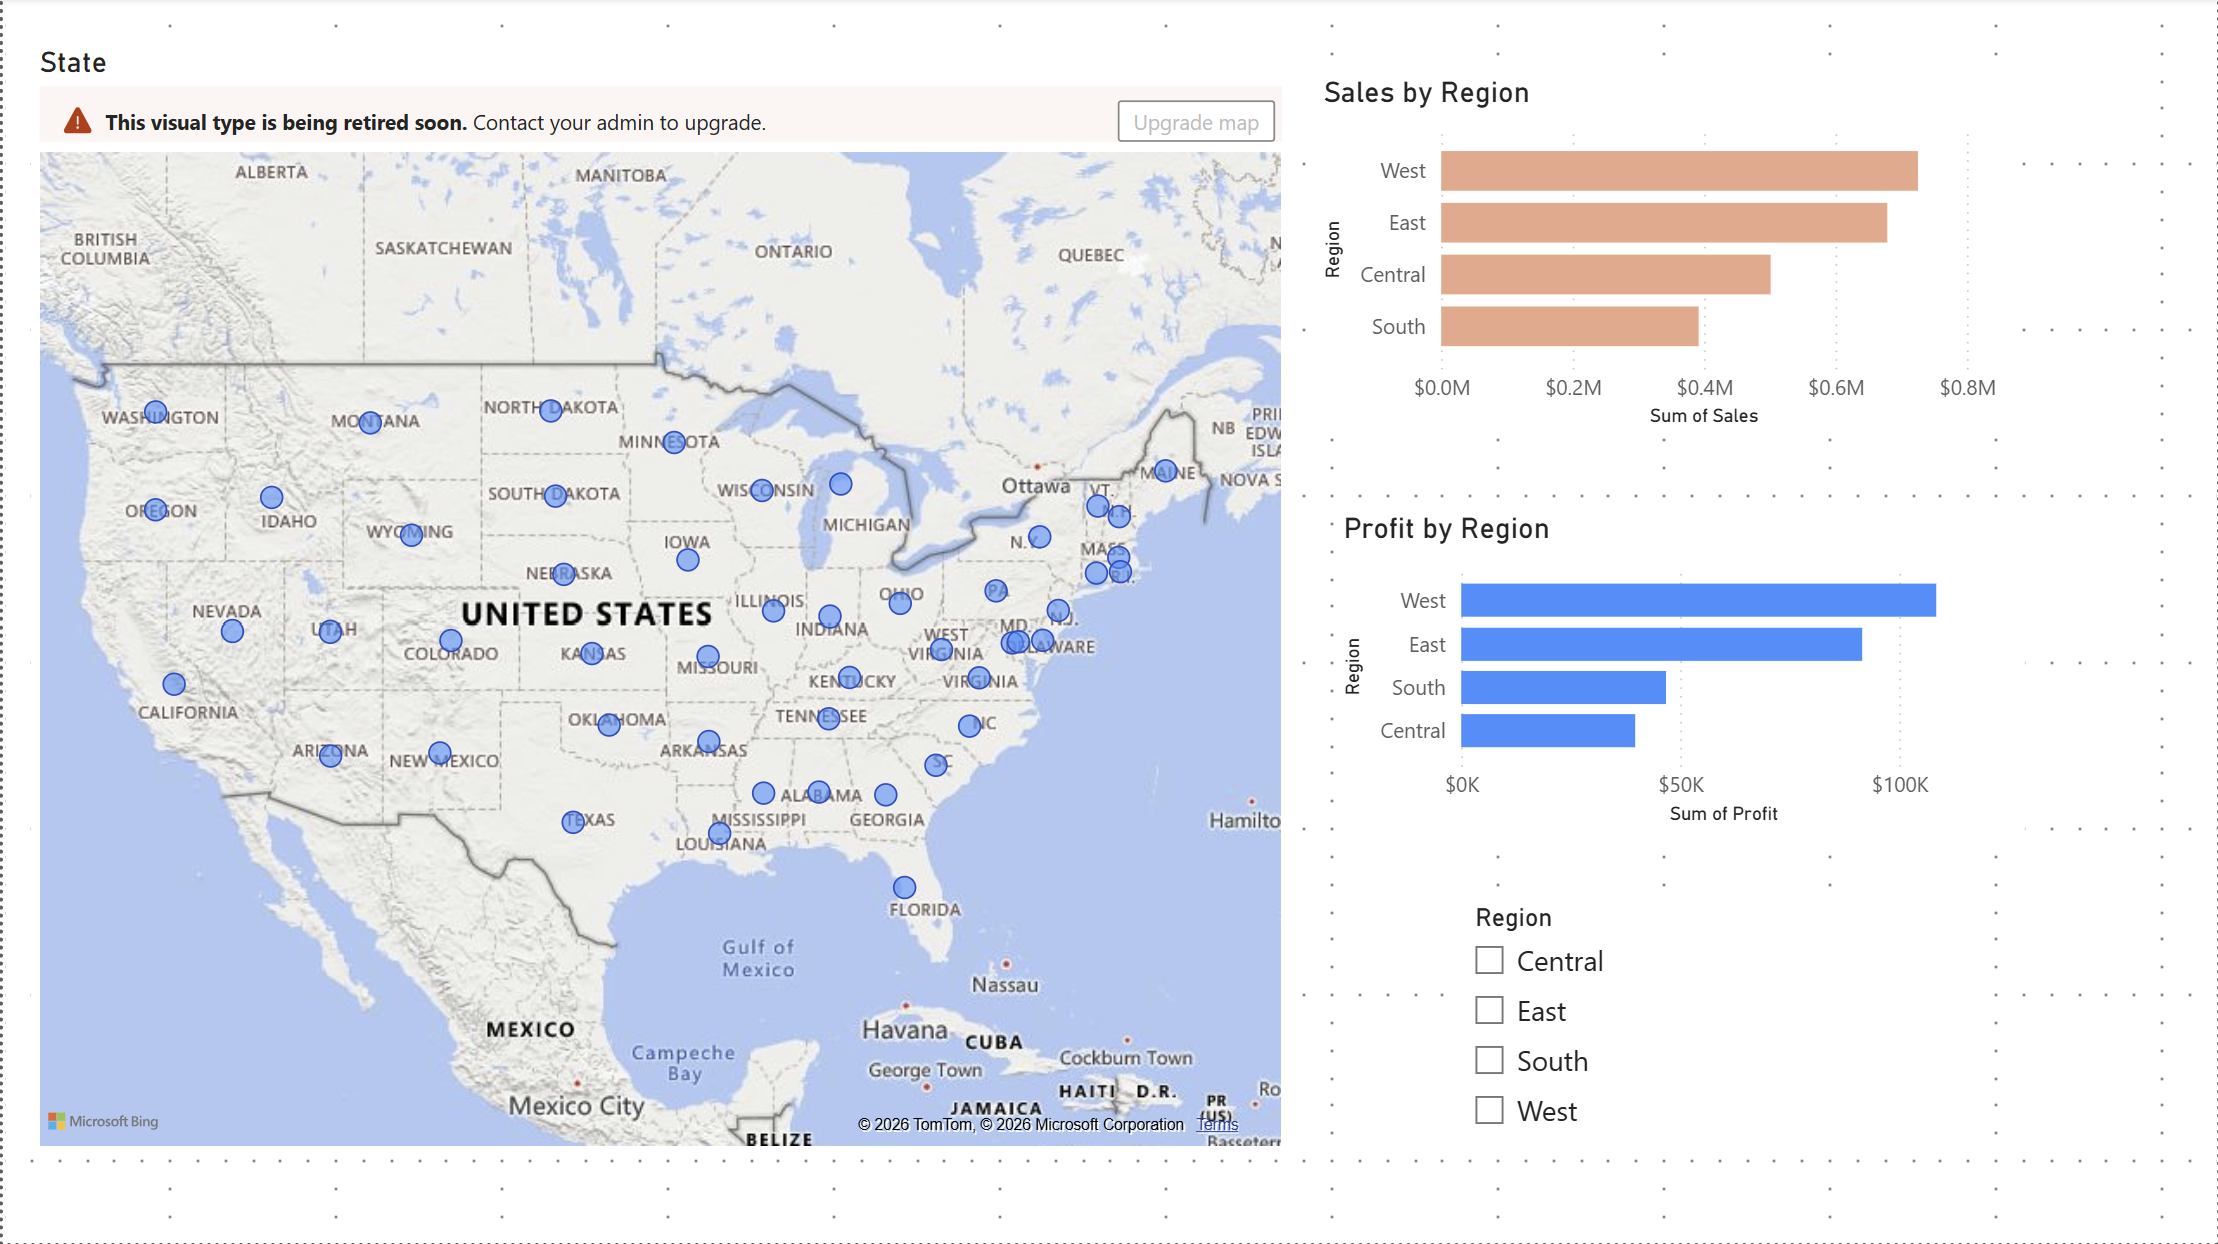

What the dashboard file says about the page in this screenshot:
{"tool":"powerbi","page":{"name":"Regional Analysis","canvas":[1280,720],"ordinal":1},"visuals":[{"type":"slicer","fields":{"Values":["superstore_cleaned.Region"]},"box":[838.4,518.4,300.8,151],"z":1000},{"type":"barChart","title":"Sales by Region","fields":{"Category":["superstore_cleaned.Region"],"Y":["Sum(superstore_cleaned.Sales)"]},"box":[758.6,44.6,399,207.8],"z":2000},{"type":"barChart","title":"Profit by Region","fields":{"Category":["superstore_cleaned.Region"],"Y":["Sum(superstore_cleaned.Profit)"]},"box":[770,297.1,399,184.9],"z":3000},{"type":"map","fields":{"Category":["superstore_cleaned.State"]},"box":[16.6,28.2,728.3,641.3],"z":3001}]}

Visuals, with their boxes in screenshot pixels (x1, y1, x2, y2), scaled from the page's 1280x720 canvas onto the 2218x1244 screenshot:
slicer - superstore_cleaned.Region: crop(1453, 896, 1974, 1157)
"Sales by Region" barChart: crop(1315, 77, 2006, 436)
"Profit by Region" barChart: crop(1334, 513, 2026, 833)
map - superstore_cleaned.State: crop(29, 49, 1291, 1157)
